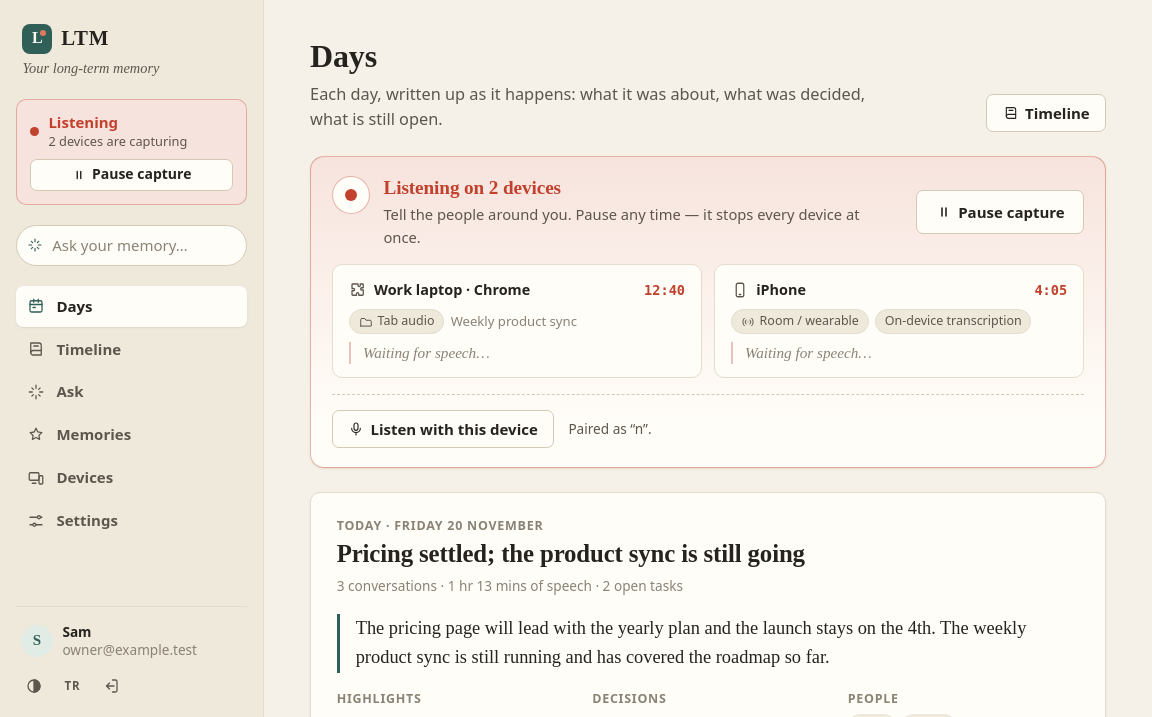
Scenario: live events › forgets this browser's capture credential on sign-out
The image size is (1152, 717).
Check: the heading "Days" is shown, box [310,38,377,74]
Click the button named "Sign out" at (111, 686), box [93,668,129,704]
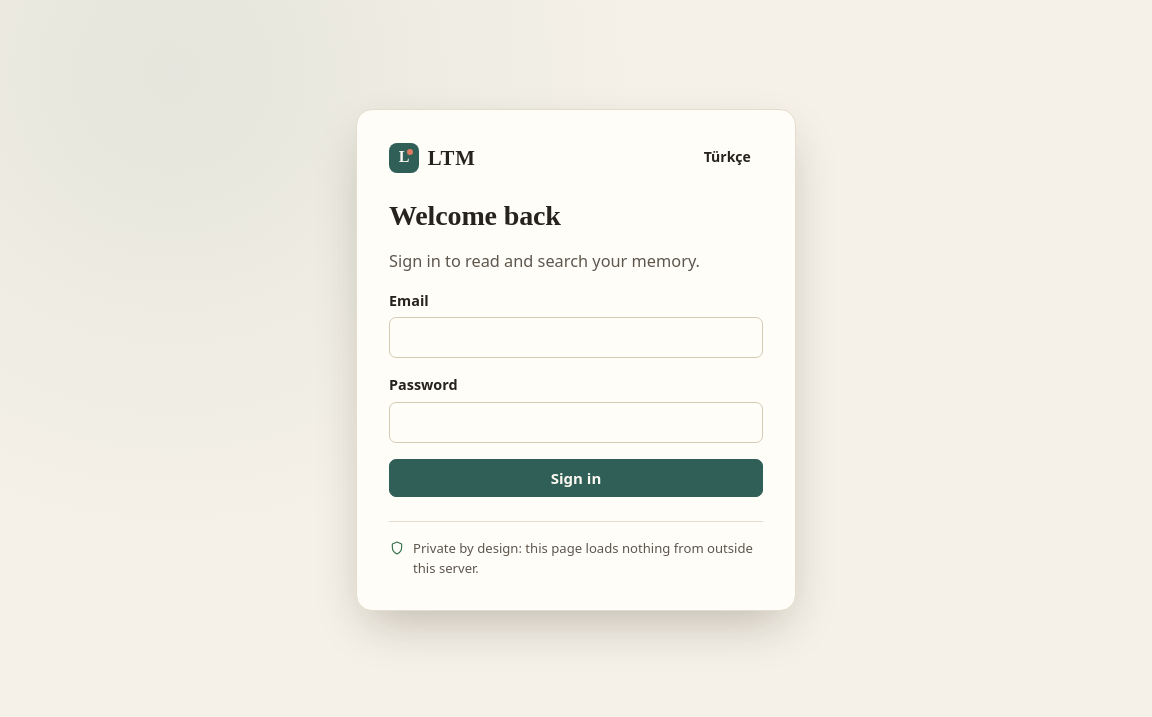
Check: the heading "Welcome back" is shown, box [389,200,561,231]
